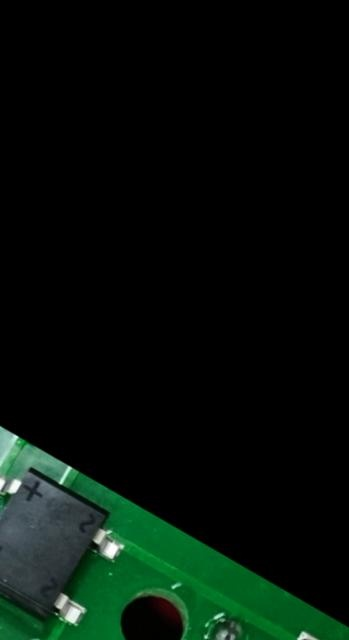ic: (0, 442, 140, 640)
